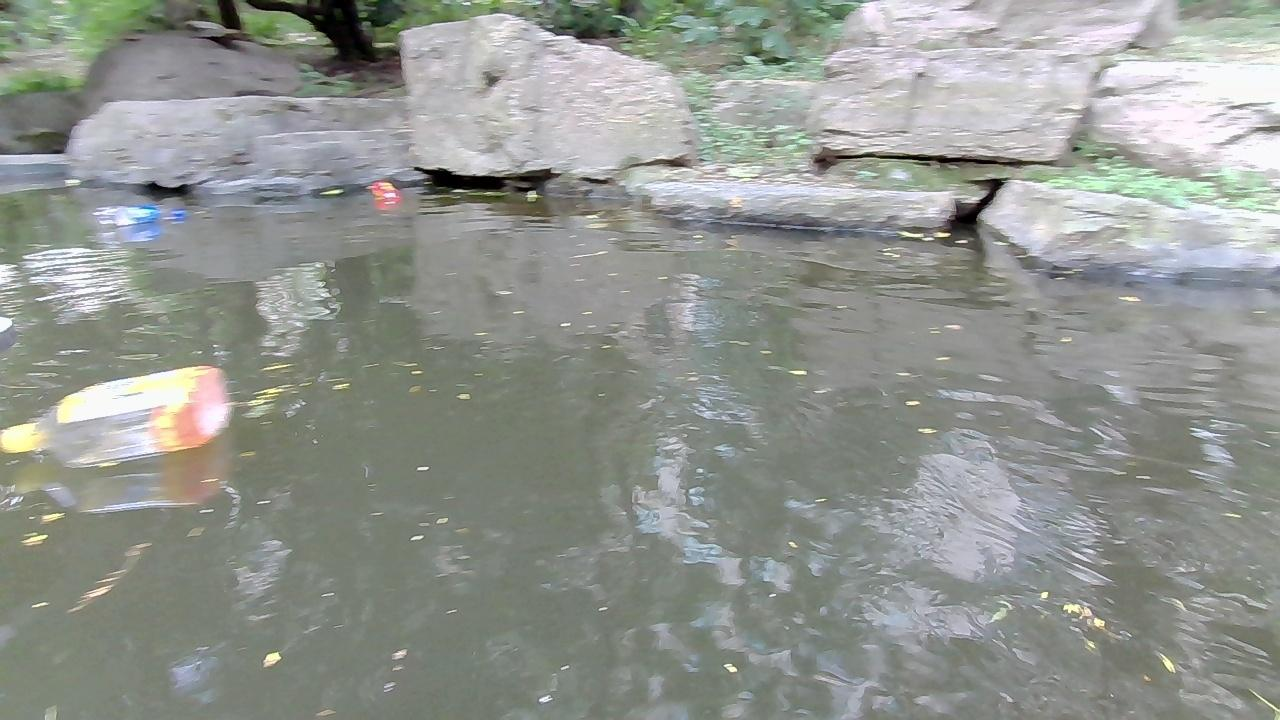bottle: (4, 358, 230, 467), (94, 200, 193, 222), (366, 177, 398, 197)
